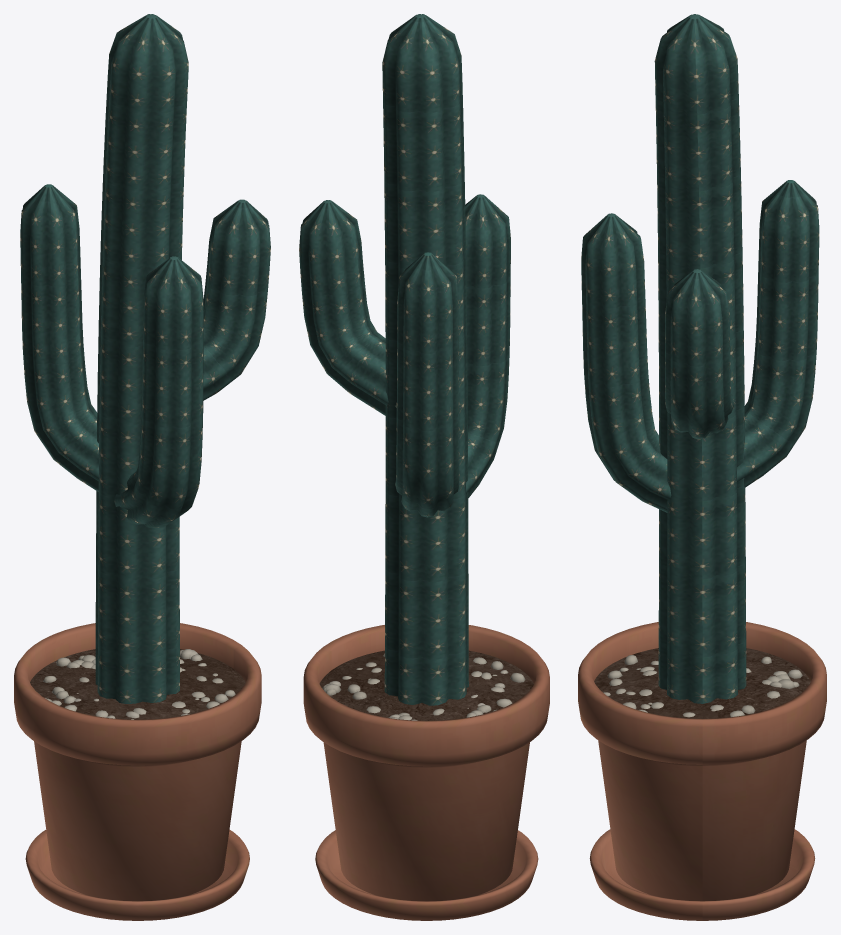
File: cactus_100.glb
3 renders of one model, left to right at view 1: azimuth 30°, elevation 25°; view 2: azimuth 150°, elevation 25°; view 3: azimuth 270°, elevation 25°, orthographic.
Visible parts, largest first — view 1: cactus_100; view 2: cactus_100; view 3: cactus_100.
Boxes of the visible parts, <box> form: cactus_100: <box>14,14,270,920</box>; cactus_100: <box>299,14,549,920</box>; cactus_100: <box>578,14,826,920</box>.
Size of the model in its own units: 0.2845 by 1 by 0.26.
Materials: 4 (4 with a texture image).
